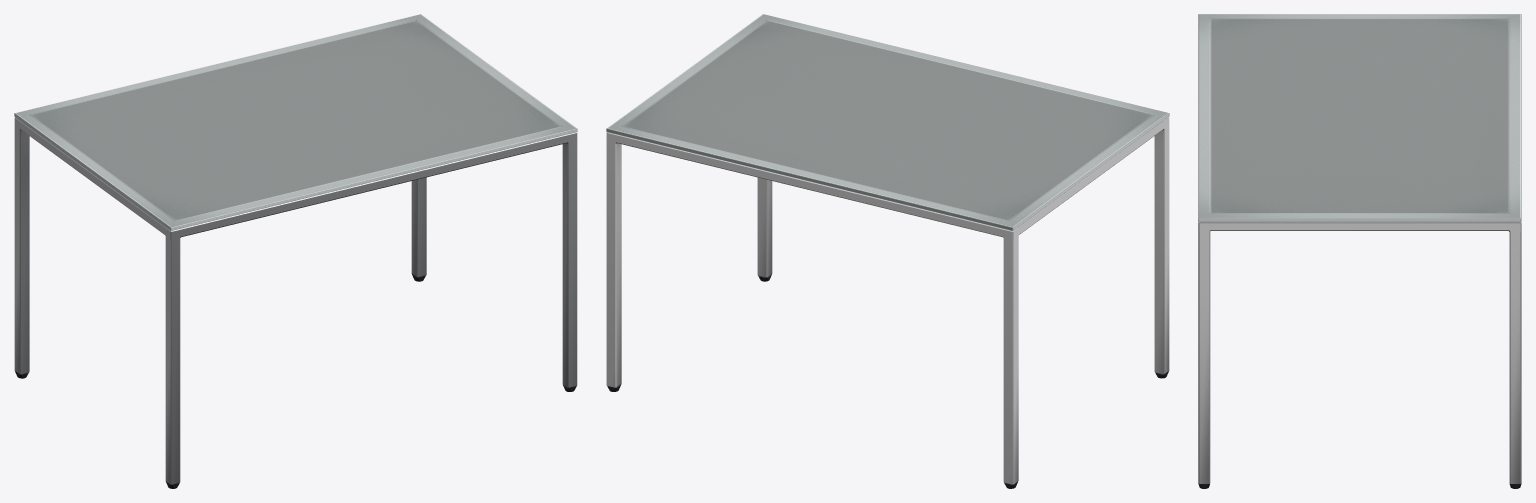
File: sasso_120x80_frosted_glass_laquered_metal.glb
The picture shows the model from 3 angles, left to right: view 1: azimuth 30°, elevation 25°; view 2: azimuth 150°, elevation 25°; view 3: azimuth 270°, elevation 25°; orthographic projection. The views are drawn at different scales.
Visible parts, largest first — view 1: glass, sasso_120-80-frosted_glass; view 2: glass, sasso_120-80-frosted_glass; view 3: glass, sasso_120-80-frosted_glass.
Boxes of the visible parts, x1,y1,x2,y2 form: glass: (14,14,577,230); sasso_120-80-frosted_glass: (14,117,577,488); glass: (606,14,1169,230); sasso_120-80-frosted_glass: (606,117,1169,488); glass: (1198,14,1521,221); sasso_120-80-frosted_glass: (1198,222,1521,488).
Size of the model in its own units: 1.2 by 0.74 by 0.8002.
2 materials, 2 textured.
